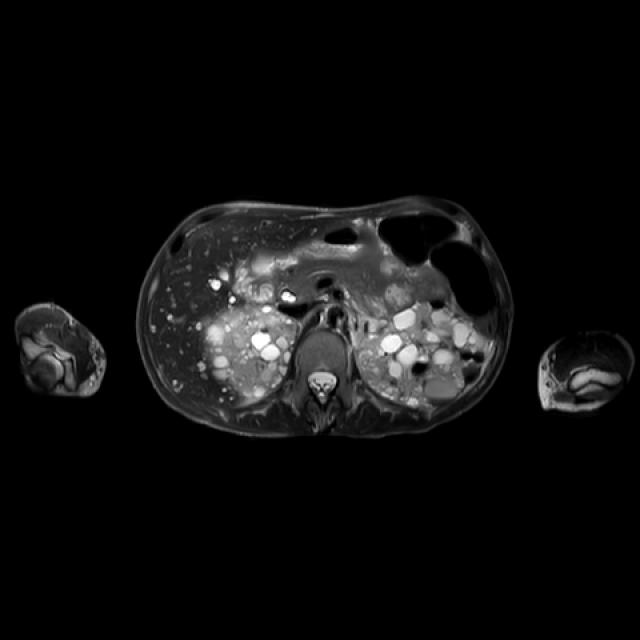sag: (206, 306, 298, 401)
sol: (353, 302, 494, 403)
